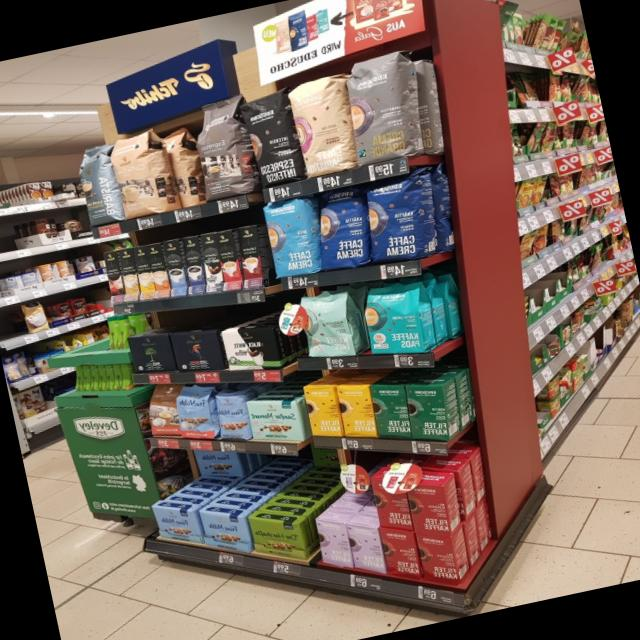BM Gemahlen: (126, 334, 175, 374)
BW Gemahlen: (219, 327, 283, 372)
Barista CC: (70, 138, 130, 228)
CC Mild: (104, 124, 188, 221)
CC Vollmundig: (145, 396, 180, 437)
Espresso Aromatisch: (181, 90, 271, 206)
FM 36 Pads: (173, 394, 218, 440)
FM Bohne: (213, 394, 251, 441)
FM Gemahlen: (197, 509, 253, 553), (150, 505, 203, 544)
Herzhatfe Mundig: (246, 516, 308, 561)
LG Gemahlen: (168, 329, 225, 373)
SM Gemahlen: (245, 400, 306, 441)
Simo CC Colombia: (102, 250, 126, 303)
Simo CCMild bigpack: (131, 244, 157, 300)
Simo CCVollmundig bigpack: (145, 241, 172, 298)
Simo Decaff: (117, 247, 141, 303)
Simo Es Elegant: (213, 228, 244, 290)
Simo Es Kraft: (236, 224, 265, 289)
Simo Kaffee BW: (197, 231, 224, 293)
Simo Kaffee Kraft: (180, 233, 207, 294)
Simo Kaffee Mild: (161, 238, 188, 296)
